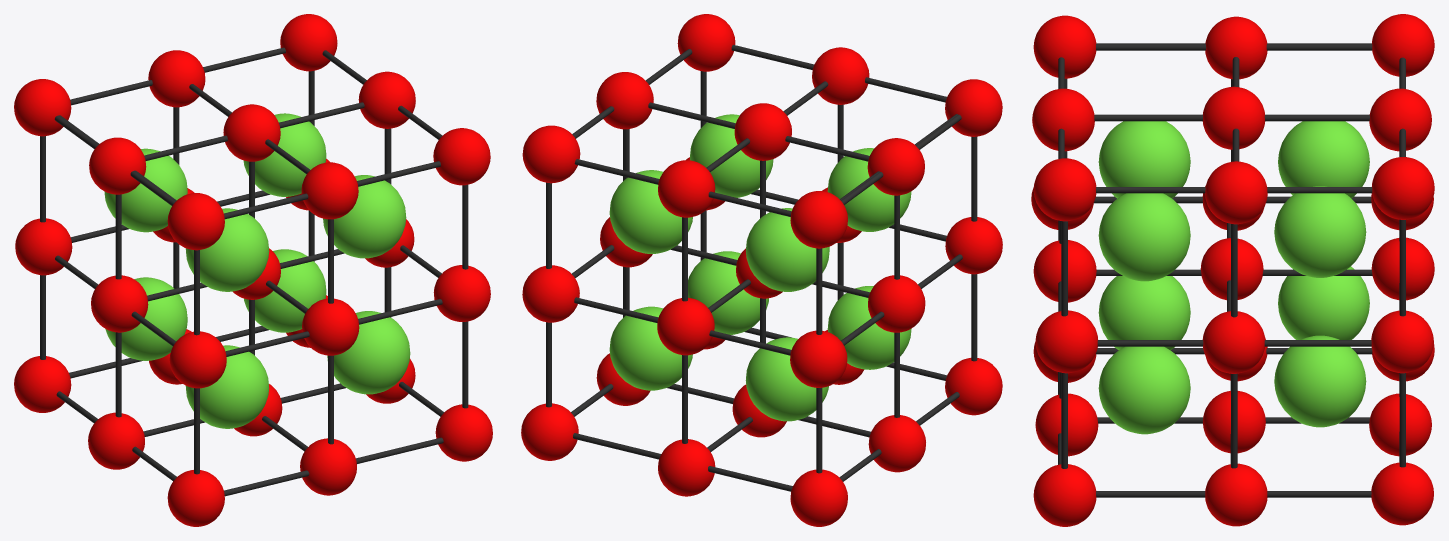
Rendered from CsCl.glb.
The picture shows the model from 3 angles, left to right: view 1: azimuth 30°, elevation 25°; view 2: azimuth 150°, elevation 25°; view 3: azimuth 270°, elevation 25°; orthographic projection. The views are drawn at different scales.
Visible parts, largest first — view 1: Sphere.010, Sphere.011, Sphere.030, Sphere.031, Sphere.028, Sphere.029, Sphere.033, Sphere.032, Sphere.027, Sphere.026, Sphere.024, Sphere.013 (+32 smaller); view 2: Sphere.010, Sphere.011, Sphere.027, Sphere.033, Sphere.032, Sphere.026, Sphere.030, Sphere.029, Sphere.031, Sphere.028, Sphere.023, Sphere.012 (+31 smaller); view 3: Sphere.010, Sphere.011, Sphere.031, Sphere.030, Sphere.033, Sphere.032, Sphere.028, Sphere.027, Sphere.029, Sphere.026, Sphere.014, Sphere.017 (+24 smaller).
Boxes of the visible parts, x1,y1,x2,y2 form: Sphere.010: (14, 14, 492, 526); Sphere.011: (91, 104, 414, 436); Sphere.030: (327, 311, 410, 394); Sphere.031: (323, 175, 406, 258); Sphere.028: (185, 208, 269, 291); Sphere.029: (185, 345, 269, 428); Sphere.033: (243, 113, 326, 196); Sphere.032: (244, 249, 326, 332); Sphere.027: (104, 148, 187, 232); Sphere.026: (105, 277, 187, 360); Sphere.024: (169, 331, 226, 388); Sphere.013: (301, 162, 358, 219); Sphere.010: (521, 14, 1002, 526); Sphere.011: (600, 103, 925, 437); Sphere.027: (746, 208, 829, 291); Sphere.033: (609, 170, 692, 253); Sphere.032: (609, 306, 692, 390); Sphere.026: (745, 337, 828, 421); Sphere.030: (688, 251, 768, 334); Sphere.029: (827, 286, 911, 369); Sphere.031: (690, 114, 773, 197); Sphere.028: (827, 148, 911, 231); Sphere.023: (790, 330, 847, 387); Sphere.012: (658, 160, 715, 217); Sphere.010: (1033, 14, 1434, 526); Sphere.011: (1033, 86, 1434, 453); Sphere.031: (1098, 193, 1190, 281); Sphere.030: (1098, 346, 1190, 434); Sphere.033: (1274, 186, 1366, 277); Sphere.032: (1274, 335, 1366, 427); Sphere.028: (1098, 121, 1190, 198); Sphere.027: (1278, 121, 1369, 198); Sphere.029: (1098, 276, 1190, 350); Sphere.026: (1278, 266, 1369, 339); Sphere.014: (1205, 161, 1267, 224); Sphere.017: (1205, 463, 1267, 526).
Bounding box in the file's own units: 3.31 × 3.28 × 3.29.
